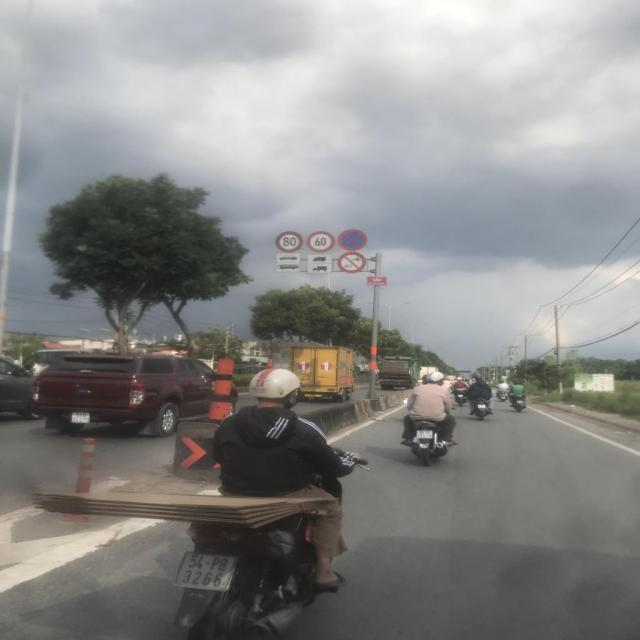127-toc-do-toi-da-60: (308, 230, 336, 252)
127-toc-do-toi-da-80: (275, 230, 304, 254)
130-cam-dung-va-do-xe: (336, 228, 368, 250)
